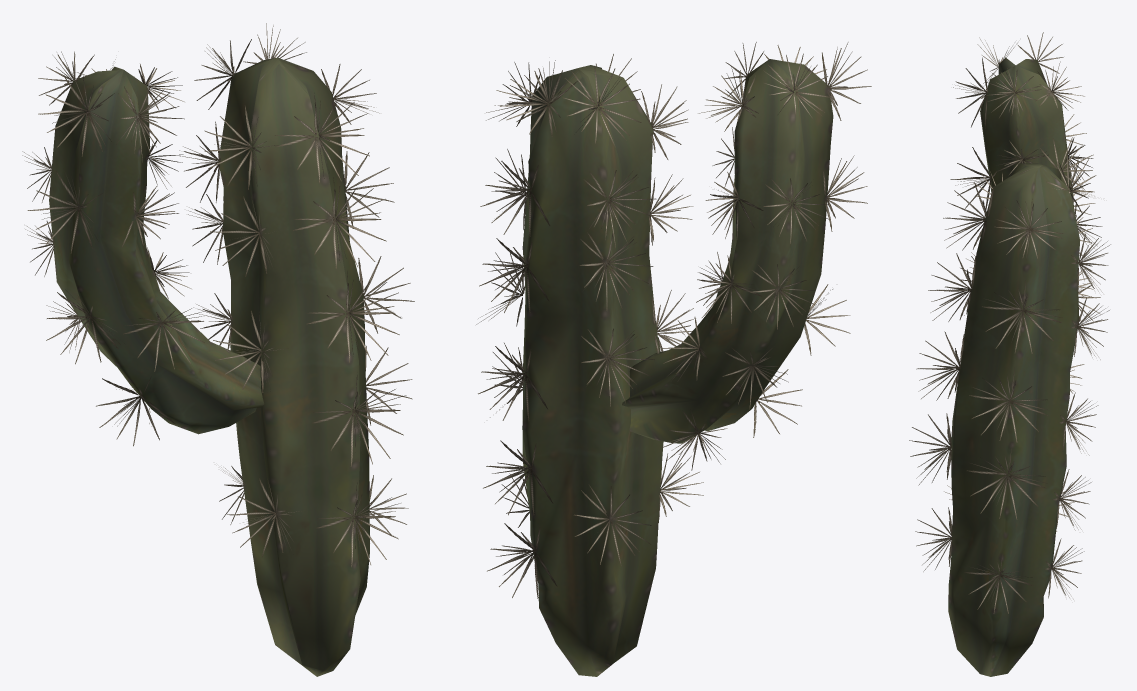
The model's file is Scene_Tree_XianRenZhang_2.FBX.
3 renders of one model, left to right at view 1: azimuth 30°, elevation 25°; view 2: azimuth 150°, elevation 25°; view 3: azimuth 270°, elevation 25°, orthographic. The views are drawn at different scales.
Parts seen in each view (by area): view 1: Scene_Tree_XianRenZhang_2a, Scene_Tree_XianRenZhang_2b; view 2: Scene_Tree_XianRenZhang_2a, Scene_Tree_XianRenZhang_2b; view 3: Scene_Tree_XianRenZhang_2a, Scene_Tree_XianRenZhang_2b.
Part boxes in pixels (x1=…): Scene_Tree_XianRenZhang_2a: x1=49, y1=57, x2=369, y2=676; Scene_Tree_XianRenZhang_2b: x1=22, y1=23, x2=414, y2=567; Scene_Tree_XianRenZhang_2a: x1=522, y1=59, x2=833, y2=676; Scene_Tree_XianRenZhang_2b: x1=476, y1=42, x2=871, y2=598; Scene_Tree_XianRenZhang_2a: x1=948, y1=57, x2=1080, y2=676; Scene_Tree_XianRenZhang_2b: x1=909, y1=32, x2=1110, y2=613.
Bounding box in the file's own units: 107 × 181 × 61.98.
